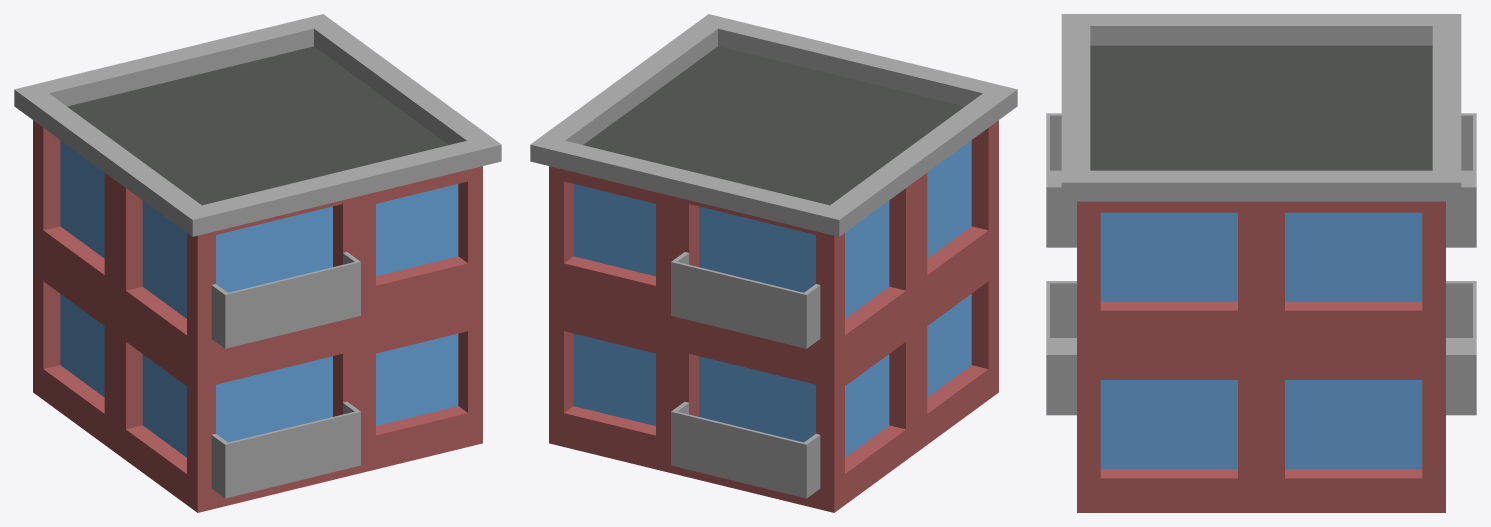
File: building_1x1_3_r.glb
3 renders of one model, left to right at view 1: azimuth 30°, elevation 25°; view 2: azimuth 150°, elevation 25°; view 3: azimuth 270°, elevation 25°, orthographic. The views are drawn at different scales.
Visible parts, largest first — view 1: Cube.002; view 2: Cube.002; view 3: Cube.002.
Boxes of the visible parts, bbox=[...] form: Cube.002: bbox=[14, 14, 501, 512]; Cube.002: bbox=[530, 14, 1017, 512]; Cube.002: bbox=[1046, 14, 1476, 512].
Size of the model in its own units: 1.73 by 1.61 by 1.86.
